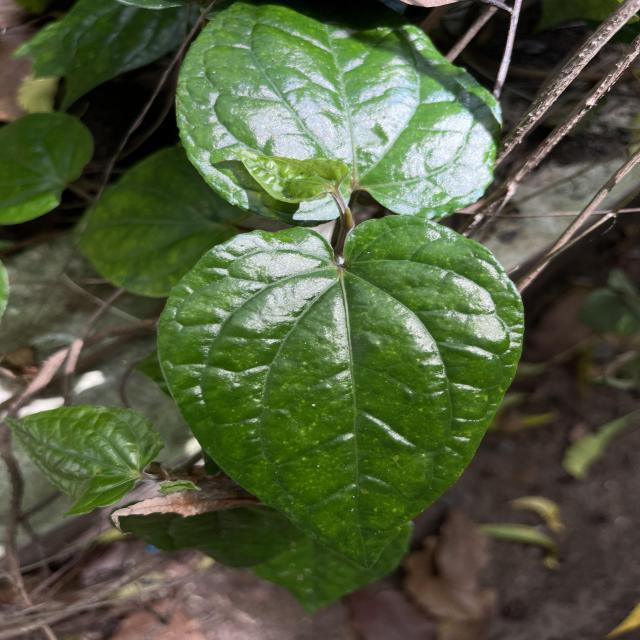Piper betle: (152, 212, 528, 572)
